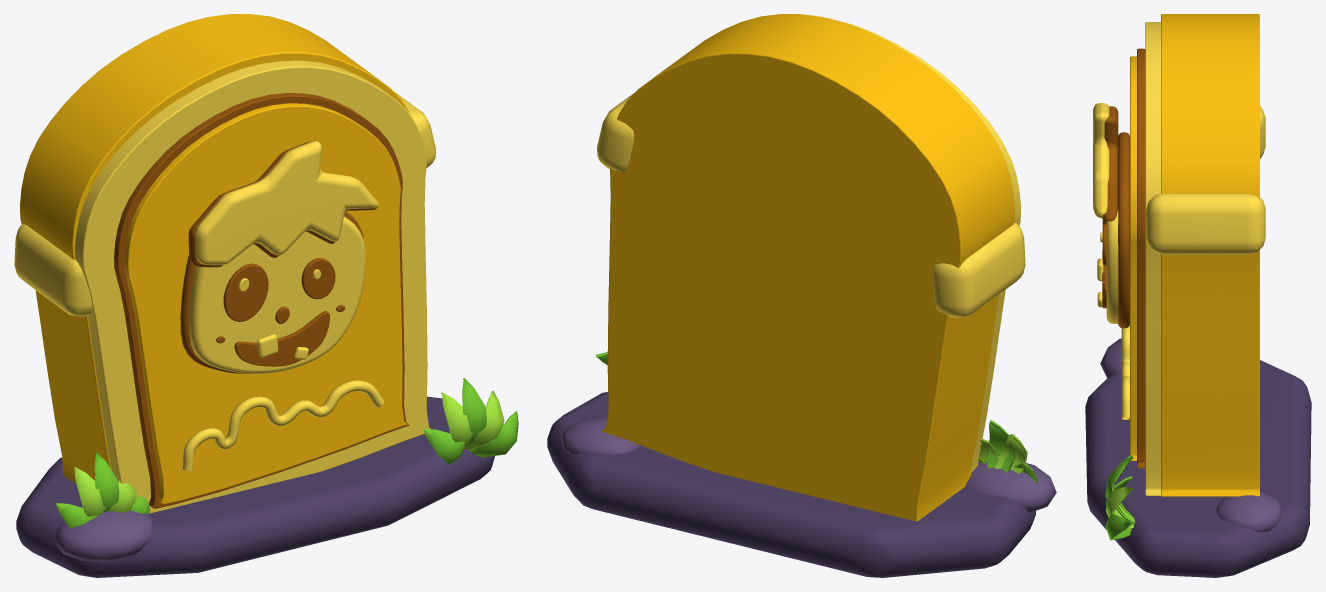
File: Grave_Golden.glb
3 renders of one model, left to right at view 1: azimuth 30°, elevation 25°; view 2: azimuth 150°, elevation 25°; view 3: azimuth 270°, elevation 25°, orthographic. The views are drawn at different scales.
Visible parts, largest first — view 1: Headstone / soft inset.003, Headstone / single thick rounded rim.003, Headstone / pudgy asymmetrical body.003, Base / single soft rock.003, Face / round squishy cheeks.003, Face / floppy rounded fringe.003, Headstone / warm panel shadow.003, Shoulder / rounded tab.006, Base / little stone.006, Ornament / little puffy cloud.003, Face / happy crooked open smile.003, Face / big curious eye.003 (+11 smaller); view 2: Headstone / pudgy asymmetrical body.003, Base / single soft rock.003, Shoulder / rounded tab.006, Base / little stone.006, Headstone / single thick rounded rim.003, Base / little stone.007, Shoulder / rounded tab.007, Grass / fat curved blade.032; view 3: Headstone / pudgy asymmetrical body.003, Base / single soft rock.003, Shoulder / rounded tab.007, Headstone / single thick rounded rim.003, Headstone / warm panel shadow.003, Headstone / soft inset.003, Face / shallow outline.003, Base / little stone.007, Face / floppy rounded fringe.003, Face / floppy fringe shadow.003, Face / round squishy cheeks.003, Ornament / little puffy cloud.003 (+4 smaller).
Boxes of the visible parts, x1,y1,x2,y2 form: Headstone / soft inset.003: (124, 103, 407, 504); Headstone / single thick rounded rim.003: (74, 60, 430, 513); Headstone / pudgy asymmetrical body.003: (20, 14, 409, 484); Base / single soft rock.003: (16, 396, 494, 577); Face / round squishy cheeks.003: (189, 216, 365, 373); Face / floppy rounded fringe.003: (195, 141, 379, 265); Headstone / warm panel shadow.003: (114, 93, 409, 508); Shoulder / rounded tab.006: (14, 224, 92, 316); Base / little stone.006: (53, 510, 152, 561); Ornament / little puffy cloud.003: (182, 380, 384, 471); Face / happy crooked open smile.003: (234, 311, 329, 366); Face / big curious eye.003: (223, 263, 268, 321); Headstone / pudgy asymmetrical body.003: (602, 14, 1014, 521); Base / single soft rock.003: (547, 392, 1035, 577); Shoulder / rounded tab.006: (932, 223, 1025, 317); Base / little stone.006: (965, 462, 1056, 512); Headstone / single thick rounded rim.003: (846, 23, 1020, 472); Base / little stone.007: (560, 418, 640, 454); Shoulder / rounded tab.007: (597, 92, 634, 171); Grass / fat curved blade.032: (987, 420, 1015, 472); Headstone / pudgy asymmetrical body.003: (1161, 14, 1259, 496); Base / single soft rock.003: (1085, 360, 1311, 577); Shoulder / rounded tab.007: (1146, 193, 1265, 254); Headstone / single thick rounded rim.003: (1145, 22, 1161, 495); Headstone / warm panel shadow.003: (1137, 48, 1145, 468); Headstone / soft inset.003: (1130, 56, 1136, 460); Face / shallow outline.003: (1118, 132, 1129, 328); Base / little stone.007: (1216, 492, 1282, 531); Face / floppy rounded fringe.003: (1093, 103, 1109, 218); Face / floppy fringe shadow.003: (1102, 106, 1118, 222); Face / round squishy cheeks.003: (1106, 209, 1118, 323); Ornament / little puffy cloud.003: (1121, 324, 1129, 419).
Bounding box in the file's own units: 2.65 × 2.63 × 1.23.
